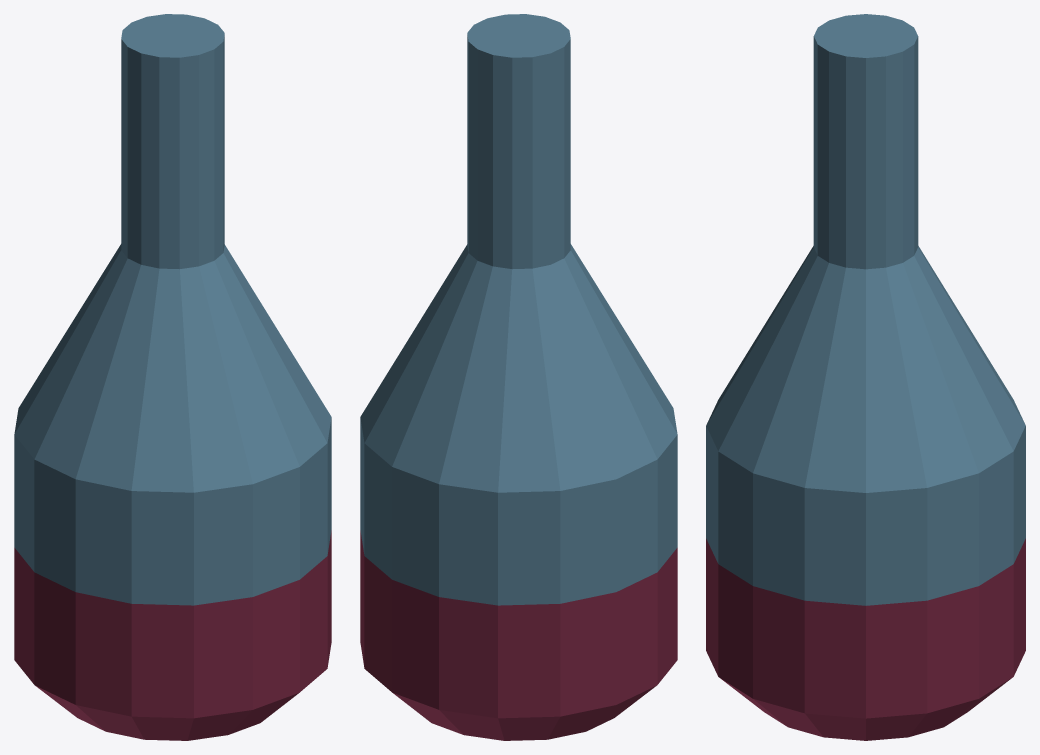
Rendered from Potion.fbx.
3 renders of one model, left to right at view 1: azimuth 30°, elevation 25°; view 2: azimuth 150°, elevation 25°; view 3: azimuth 270°, elevation 25°, orthographic.
Parts seen in each view (by area): view 1: Model; view 2: Model; view 3: Model.
Boxes of the visible parts, x1,y1,x2,y2 form: Model: (14,14,331,740); Model: (360,14,677,740); Model: (706,14,1025,740).
Bounding box in the file's own units: 0.1726 × 0.3921 × 0.1726.
